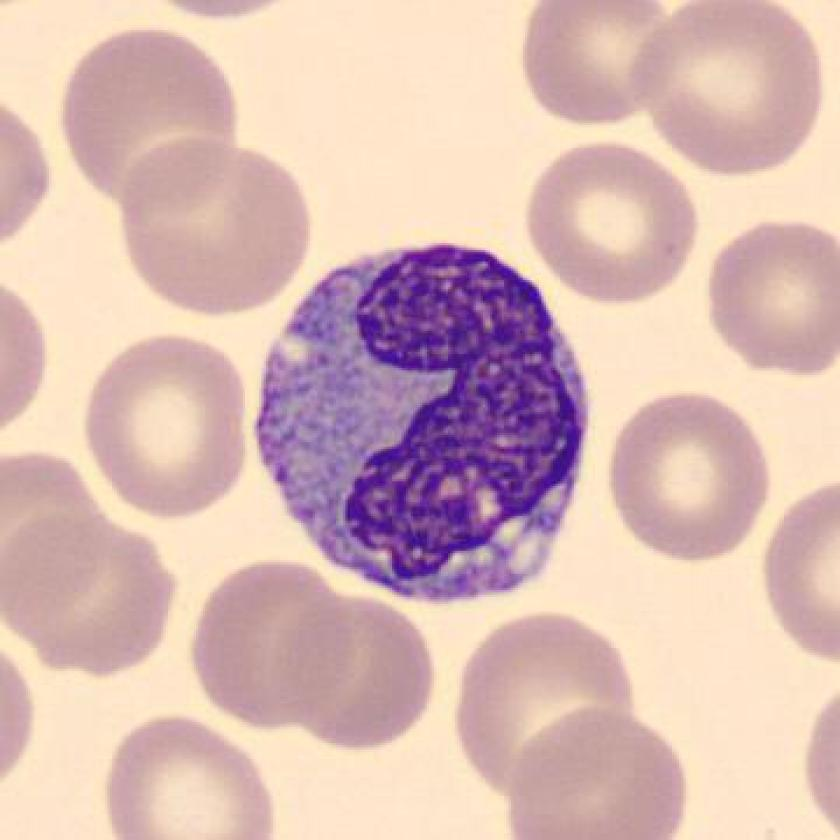monocyte: (237, 223, 612, 628)
